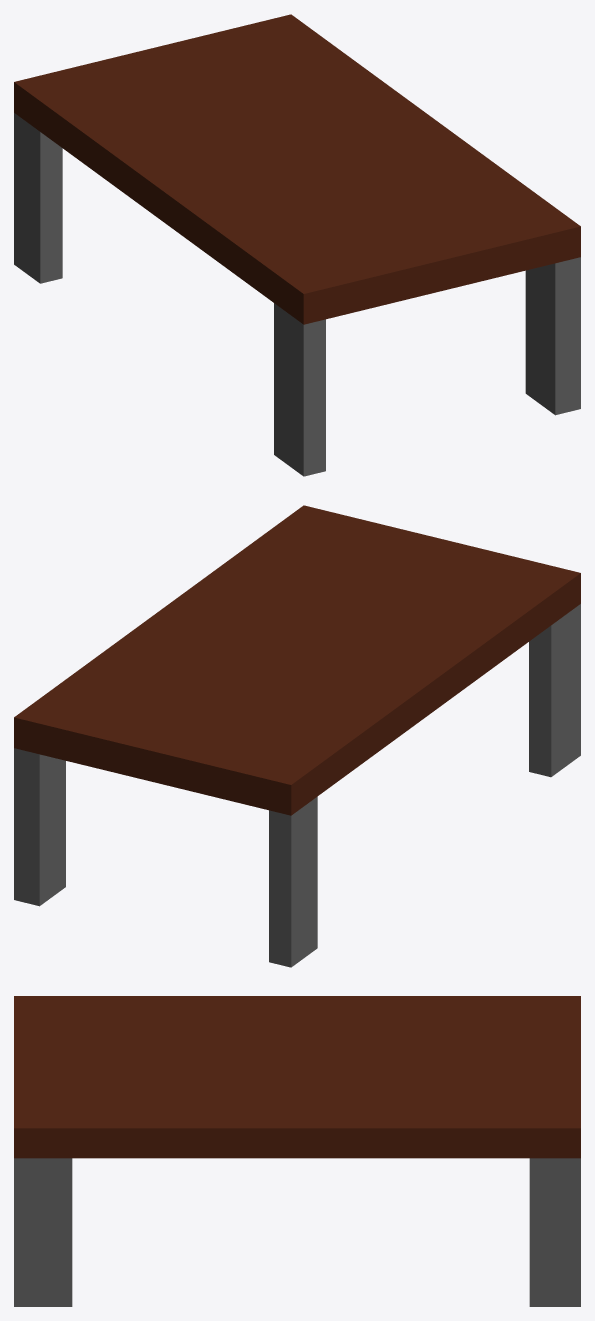
The model's file is stol3.fbx.
3 renders of one model, top to bottom at view 1: azimuth 30°, elevation 25°; view 2: azimuth 150°, elevation 25°; view 3: azimuth 270°, elevation 25°, orthographic. The views are drawn at different scales.
Visible parts, largest first — view 1: Box433; view 2: Box433; view 3: Box433.
Boxes of the visible parts, box(x1,y1,x2,y2) form: Box433: box(14, 14, 580, 476); Box433: box(14, 505, 580, 967); Box433: box(14, 996, 580, 1306).
Size of the model in its own units: 21.14 by 13.3 by 38.27.
